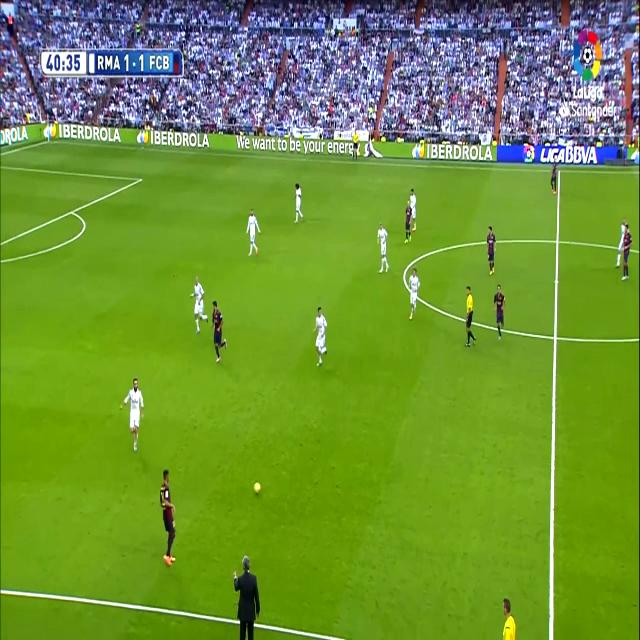bigarea_bottom_outter: (69, 204, 76, 218)
halfcircle_bottom: (550, 322, 562, 352)
halfcircle_top: (552, 229, 564, 253)
midline_top_intersection: (556, 164, 563, 178)
